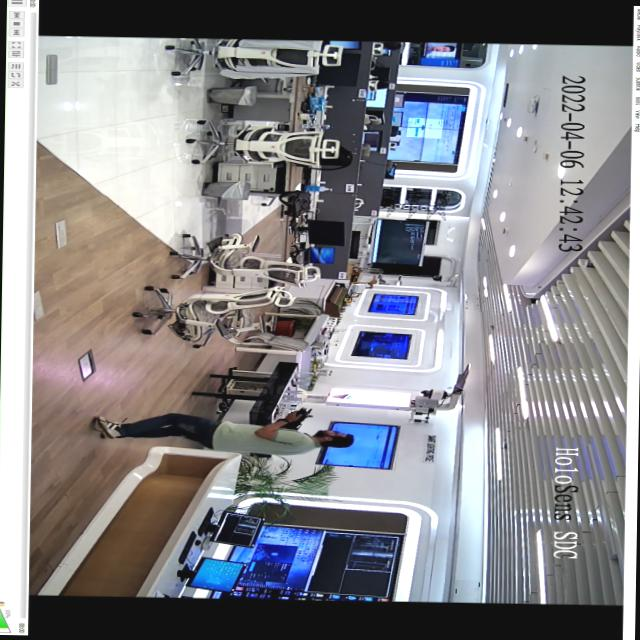long weapon: (265, 404, 316, 442)
